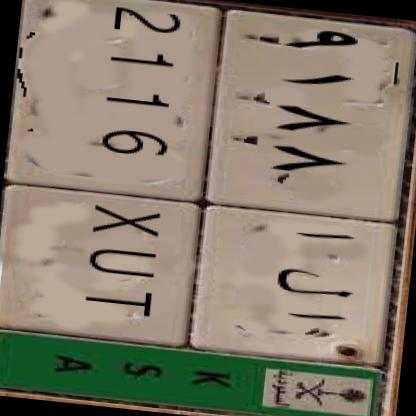english: (0, 0, 230, 353)
